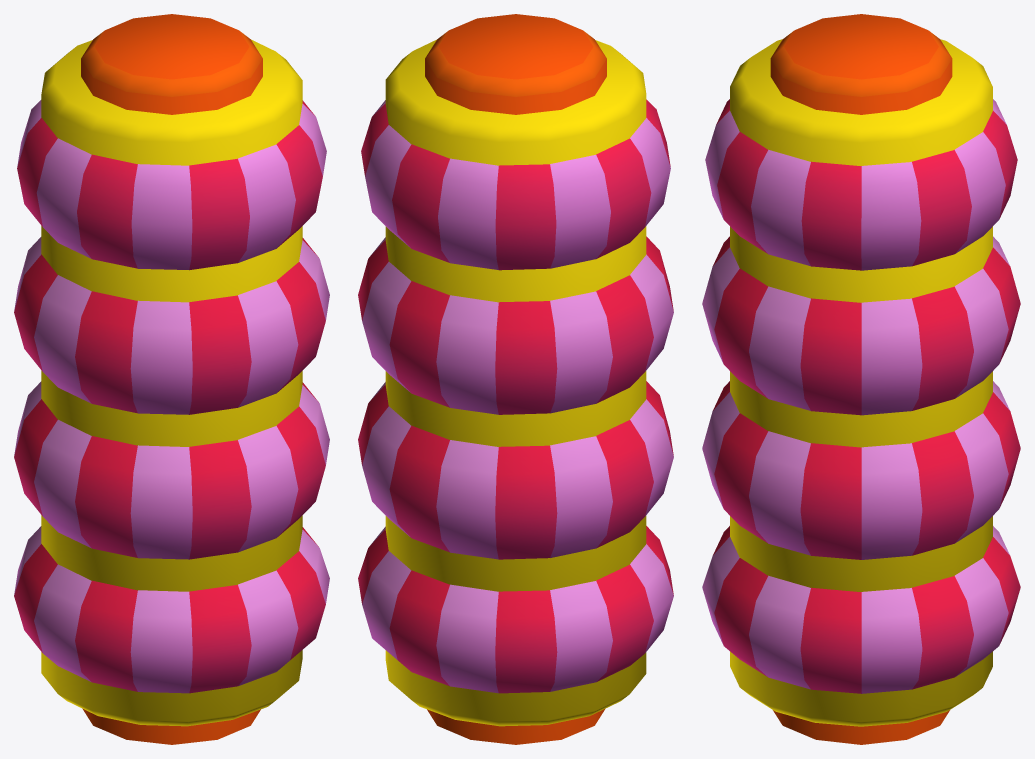
The model's file is obstacle_9_001.glb.
3 views of the same model, side by side, from view 1: azimuth 30°, elevation 25°; view 2: azimuth 150°, elevation 25°; view 3: azimuth 270°, elevation 25° (orthographic).
Parts seen in each view (by area): view 1: obstacle_9_001; view 2: obstacle_9_001; view 3: obstacle_9_001.
Boxes of the visible parts, box(x1,y1,x2,y2) form: obstacle_9_001: box(14, 14, 329, 744); obstacle_9_001: box(358, 14, 673, 744); obstacle_9_001: box(702, 14, 1020, 744).
Bounding box in the file's own units: 0.8755 × 2 × 0.8755.
Materials: 1 (1 with a texture image).
